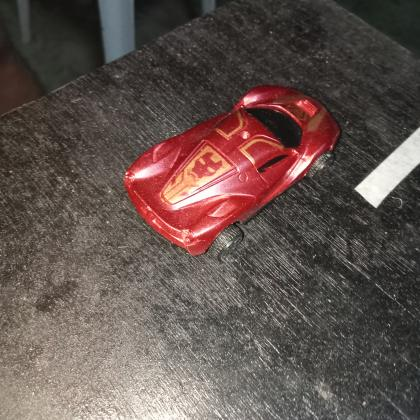Car: (123, 81, 344, 262)
